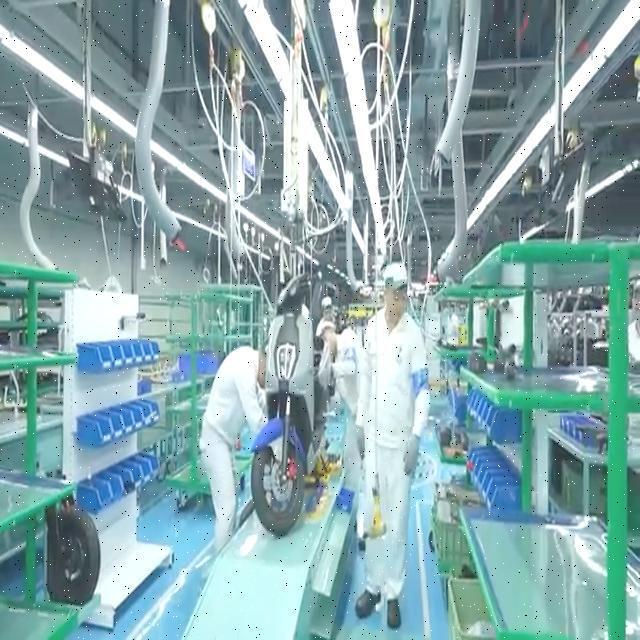motorcycle: (244, 269, 340, 536)
